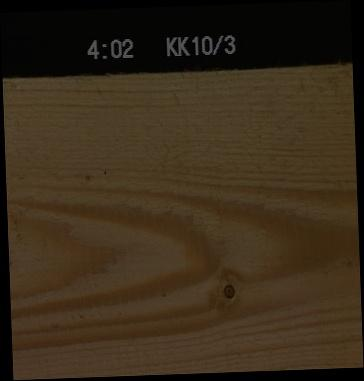dry_knot: (221, 282, 235, 298)
